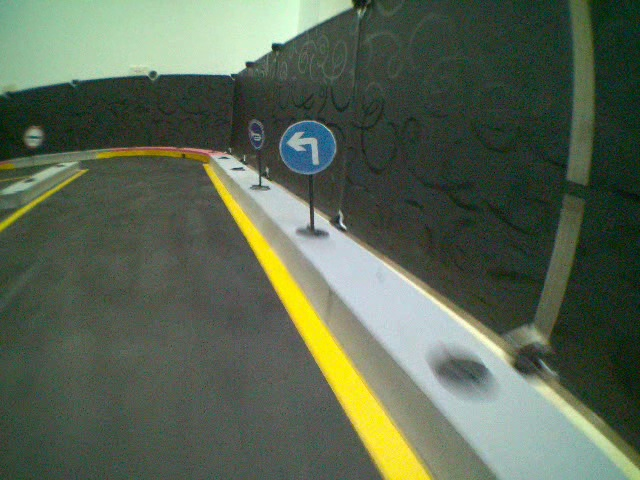Check: (23, 124, 44, 149)
horn: (246, 119, 265, 149)
turn: (277, 119, 339, 177)
